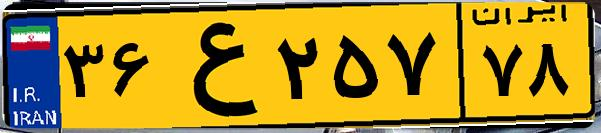2: (270, 28, 330, 110)
3: (57, 26, 110, 100)
5: (330, 28, 385, 110)
6: (110, 28, 158, 98)
7: (385, 28, 445, 110), (475, 38, 525, 113)
8: (525, 38, 570, 115)
ع: (158, 12, 270, 120)
